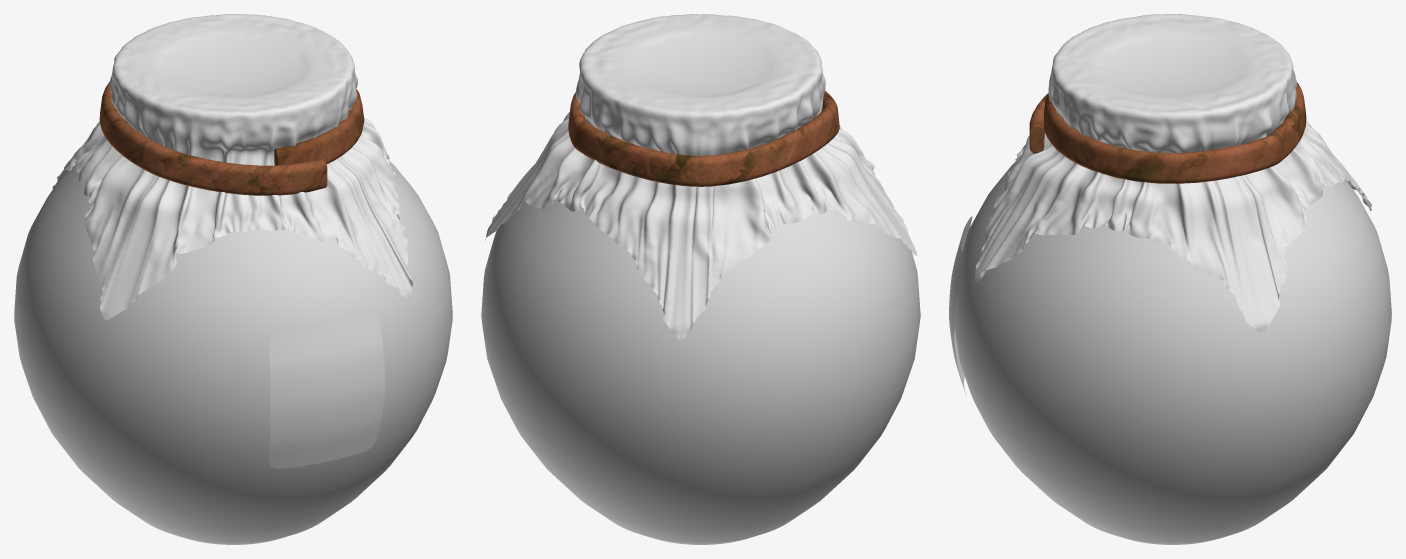
File: Jar1.fbx
The picture shows the model from 3 angles, left to right: view 1: azimuth 30°, elevation 25°; view 2: azimuth 150°, elevation 25°; view 3: azimuth 270°, elevation 25°; orthographic projection.
Parts seen in each view (by area): view 1: Circle.003, Plane.001, Circle.004, BézierCurve; view 2: Circle.003, Plane.001, BézierCurve; view 3: Circle.003, Plane.001, BézierCurve, Circle.004.
Part boxes in pixels (x1=…): Circle.003: x1=14, y1=160, x2=452, y2=544; Plane.001: x1=52, y1=14, x2=412, y2=320; Circle.004: x1=269, y1=312, x2=385, y2=468; BézierCurve: x1=99, y1=81, x2=364, y2=195; Circle.003: x1=481, y1=200, x2=920, y2=544; Plane.001: x1=485, y1=14, x2=917, y2=341; BézierCurve: x1=568, y1=90, x2=839, y2=186; Circle.003: x1=954, y1=161, x2=1391, y2=544; Plane.001: x1=975, y1=14, x2=1371, y2=333; BézierCurve: x1=1029, y1=82, x2=1306, y2=183; Circle.004: x1=949, y1=216, x2=972, y2=396.
Bounding box in the file's own units: 8.53 × 9.73 × 8.61.
4 materials, 1 textured.
